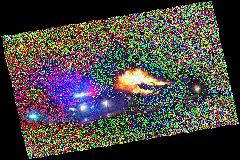fire: (108, 61, 169, 98)
